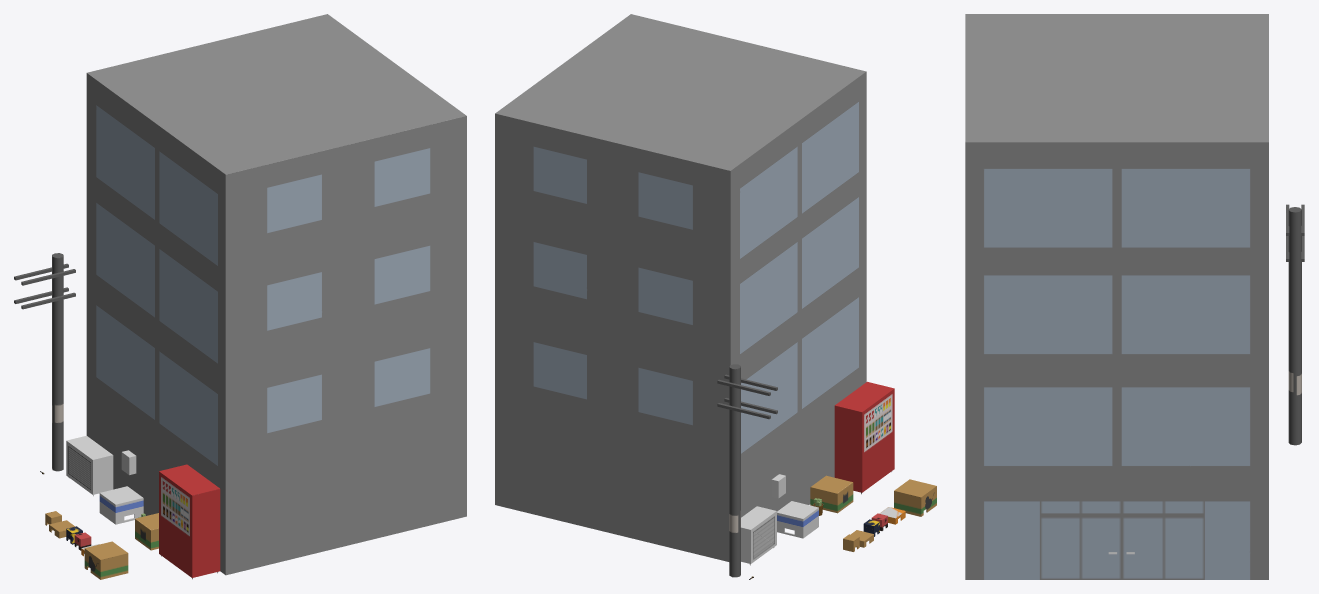
File: rojiura03.glb
The picture shows the model from 3 angles, left to right: view 1: azimuth 30°, elevation 25°; view 2: azimuth 150°, elevation 25°; view 3: azimuth 270°, elevation 25°; orthographic projection. The views are drawn at different scales.
Parts seen in each view (by area): view 1: building, zidouhanbaiki, dentyu, shitsugaiki, house30, basket, box1; view 2: building, zidouhanbaiki, dentyu, shitsugaiki, house30, basket, box1; view 3: building, dentyu.
Part boxes in pixels (x1,y1,x2,y2): building: (86, 14, 466, 575); zidouhanbaiki: (159, 464, 220, 579); dentyu: (14, 253, 75, 471); shitsugaiki: (66, 435, 113, 496); house30: (84, 541, 128, 579); basket: (99, 486, 143, 524); box1: (135, 513, 158, 550); building: (495, 14, 866, 561); zidouhanbaiki: (834, 381, 894, 494); dentyu: (717, 364, 777, 577); shitsugaiki: (741, 506, 776, 565); house30: (894, 479, 936, 516); basket: (777, 501, 818, 538); box1: (810, 475, 853, 513); building: (965, 14, 1268, 579); dentyu: (1286, 204, 1304, 445).
Size of the model in its own units: 56.36 by 63.54 by 44.7.
4 materials, 4 textured.
